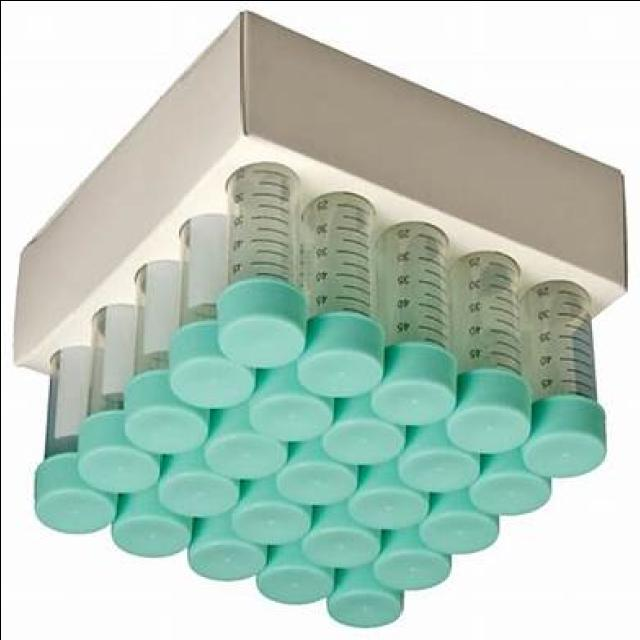vial: (222, 305, 304, 369), (458, 468, 554, 514), (368, 380, 467, 420), (128, 404, 211, 451), (302, 350, 378, 399), (314, 420, 404, 460), (250, 396, 334, 438), (114, 504, 184, 554), (408, 507, 493, 547), (346, 481, 425, 524), (445, 406, 527, 446), (282, 458, 352, 504), (162, 468, 238, 510), (40, 481, 110, 526), (210, 434, 284, 476), (528, 432, 612, 469), (338, 585, 402, 633), (88, 446, 162, 487), (302, 526, 381, 564), (180, 360, 249, 403), (378, 546, 447, 587), (236, 500, 308, 539), (264, 566, 334, 606), (393, 450, 473, 484), (194, 538, 254, 576)
